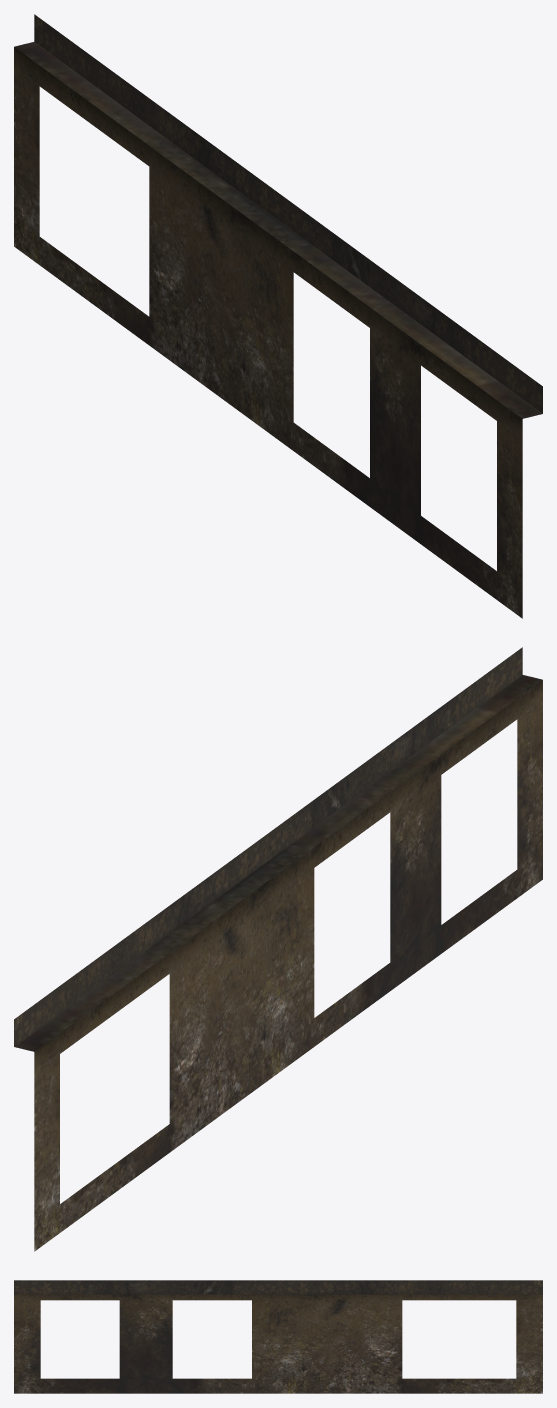
Rendered from Shops_Front.FBX.
3 renders of one model, top to bottom at view 1: azimuth 30°, elevation 25°; view 2: azimuth 150°, elevation 25°; view 3: azimuth 270°, elevation 25°, orthographic. The views are drawn at different scales.
Parts seen in each view (by area): view 1: Shops_Front; view 2: Shops_Front; view 3: Shops_Front.
Boxes of the visible parts, x1=… form: Shops_Front: x1=14, y1=14, x2=542, y2=618; Shops_Front: x1=14, y1=647, x2=542, y2=1251; Shops_Front: x1=14, y1=1280, x2=542, y2=1393.
Bounding box in the file's own units: 50 × 531 × 2152.
